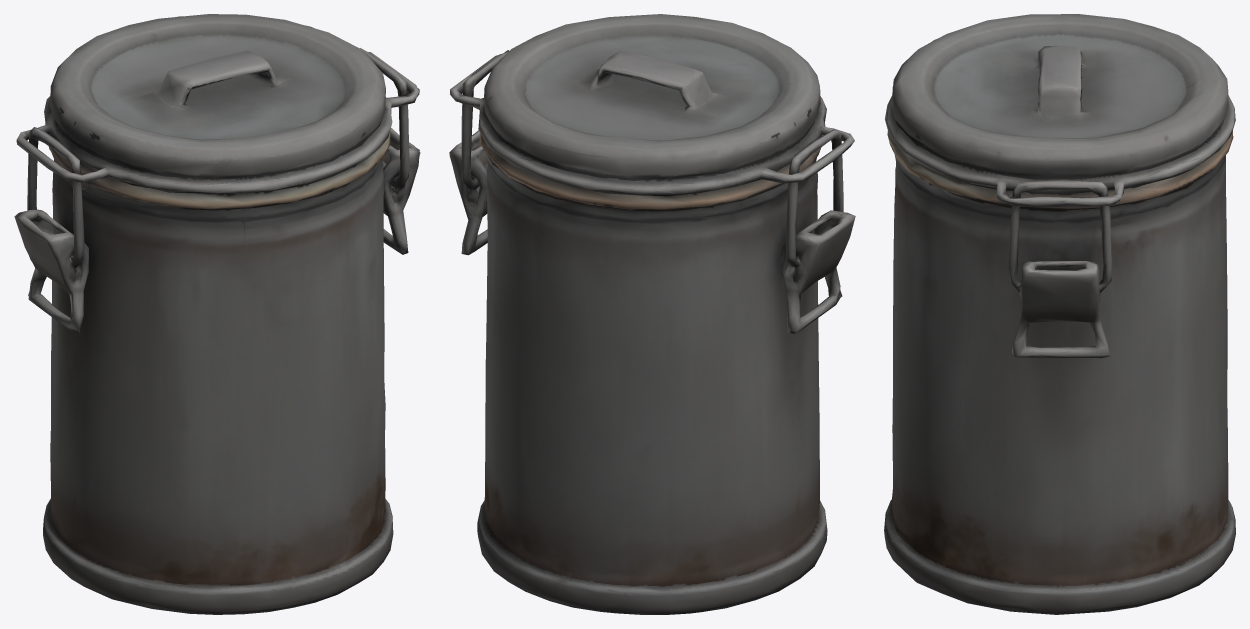
File: teakitchen_CoffeeBeanCanister.glb
The picture shows the model from 3 angles, left to right: view 1: azimuth 30°, elevation 25°; view 2: azimuth 150°, elevation 25°; view 3: azimuth 270°, elevation 25°; orthographic projection.
Visible parts, largest first — view 1: world; view 2: world; view 3: world.
Part boxes in pixels (box(x1,y1,x2,y2)): world: box(14, 14, 420, 614); world: box(449, 14, 855, 614); world: box(884, 14, 1235, 614).
Size of the model in its own units: 0.8133 by 1 by 0.6659.
1 material, 1 textured.
